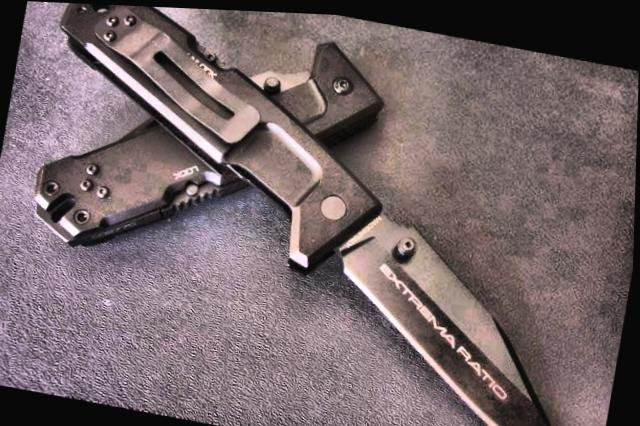knife: (253, 153, 623, 426)
